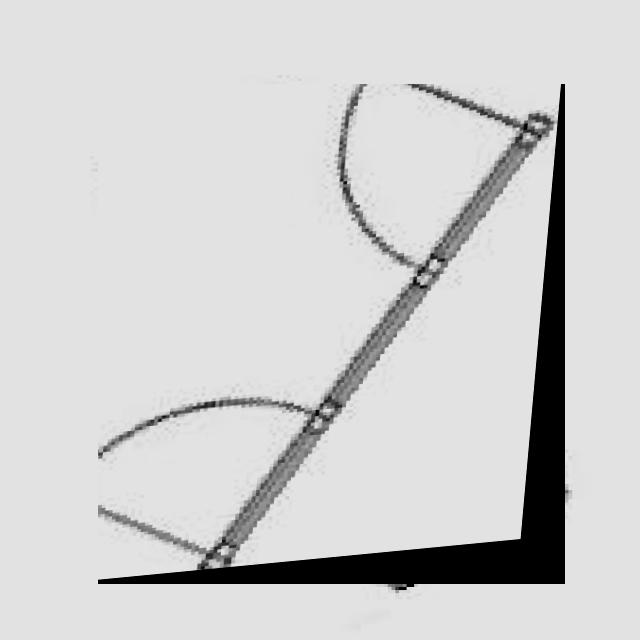door: (98, 84, 565, 584)
